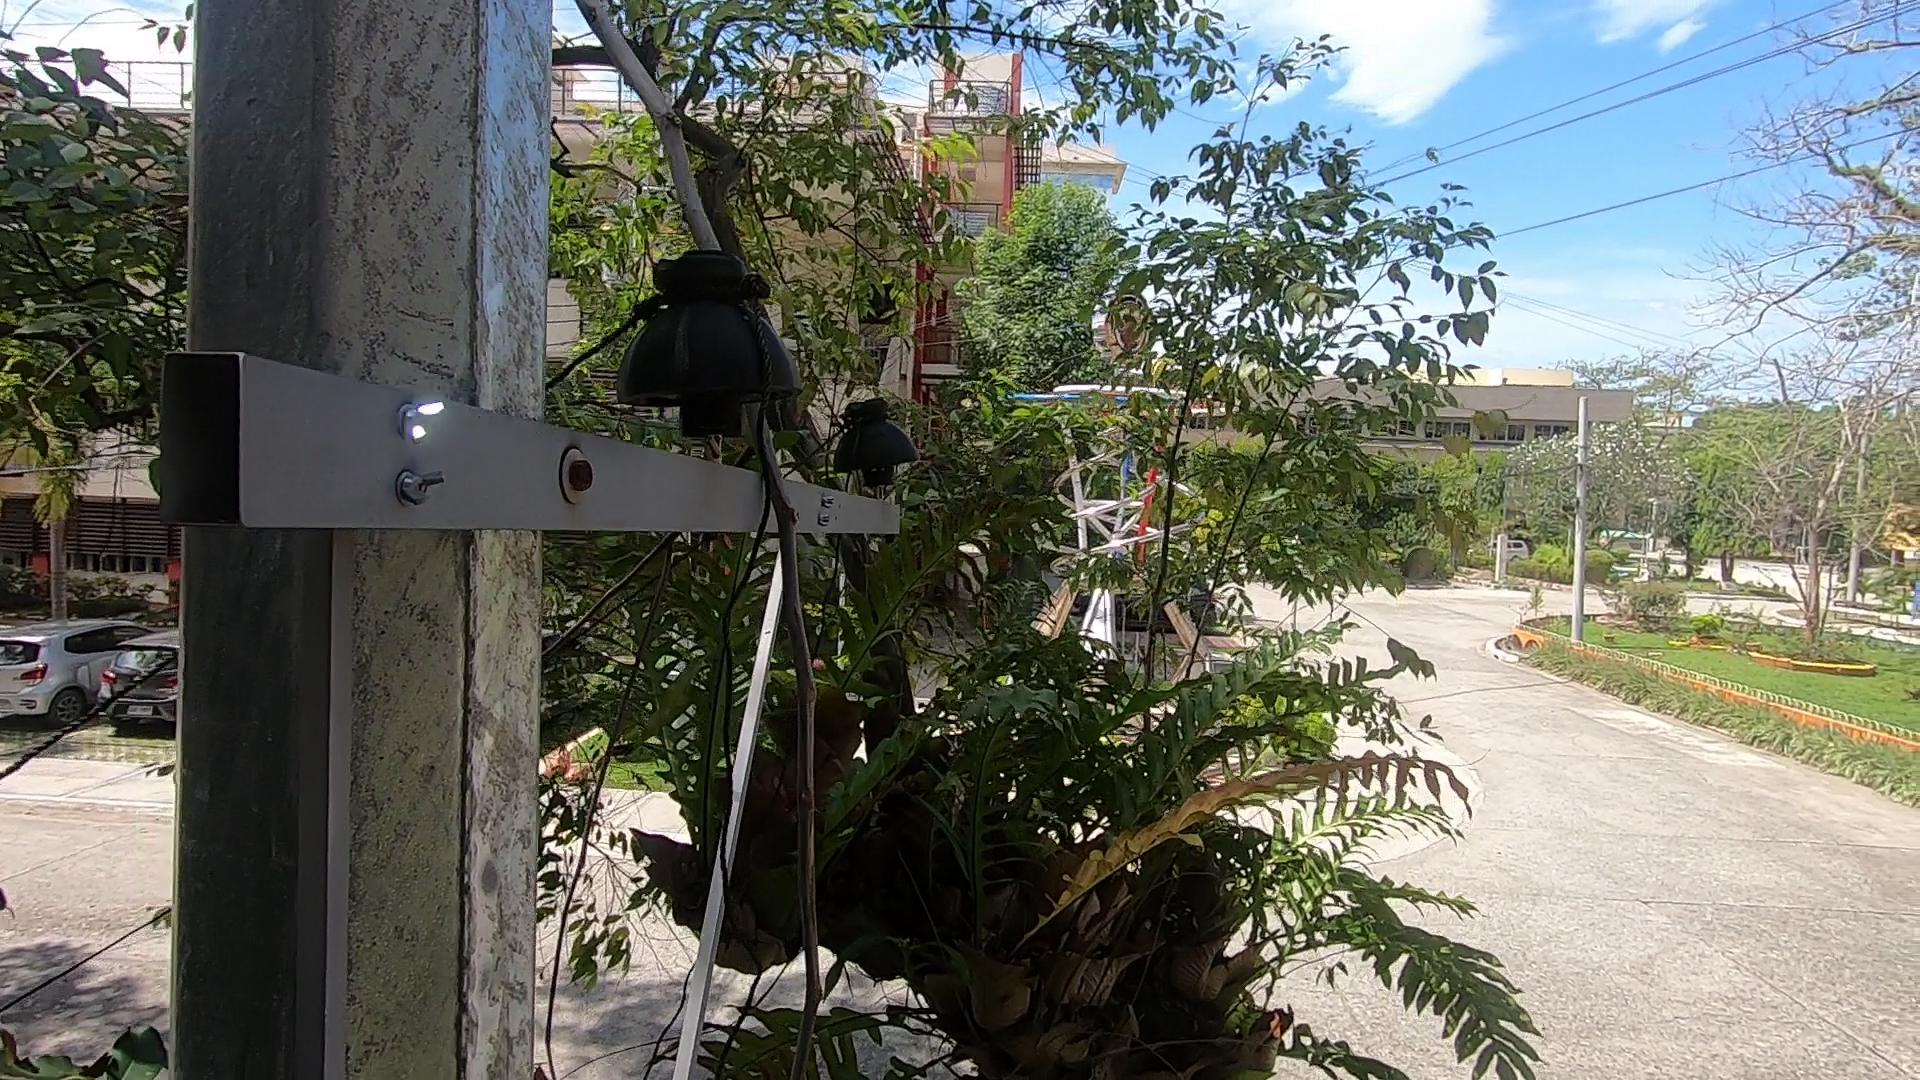tree branch: (547, 7, 911, 1046)
